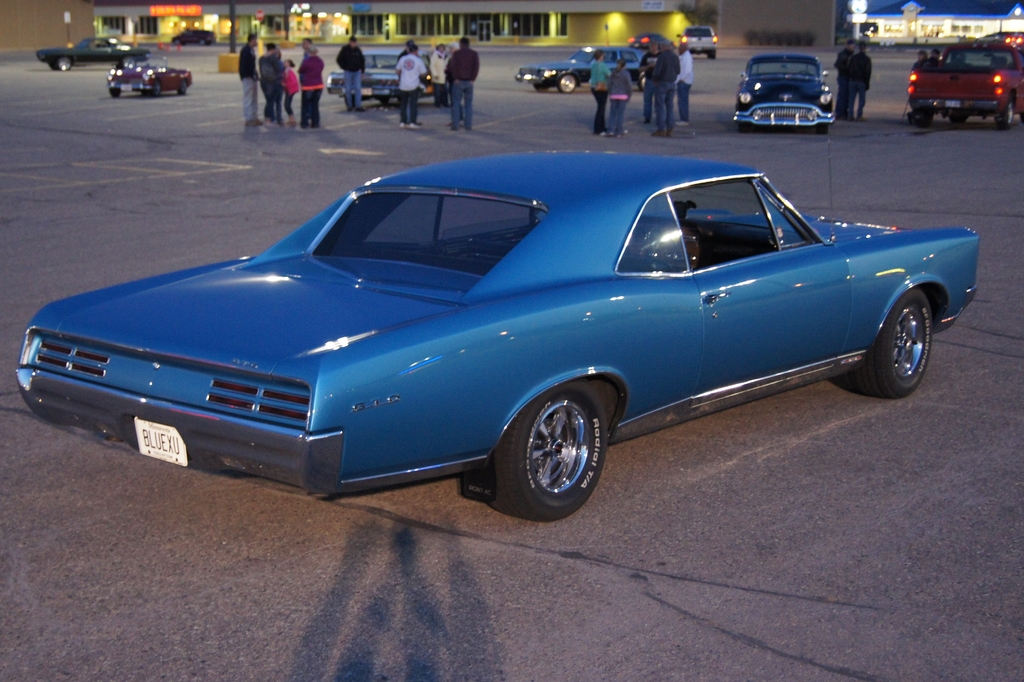mobil: (13, 146, 988, 533), (730, 50, 838, 133), (33, 27, 147, 69), (105, 62, 195, 99)
